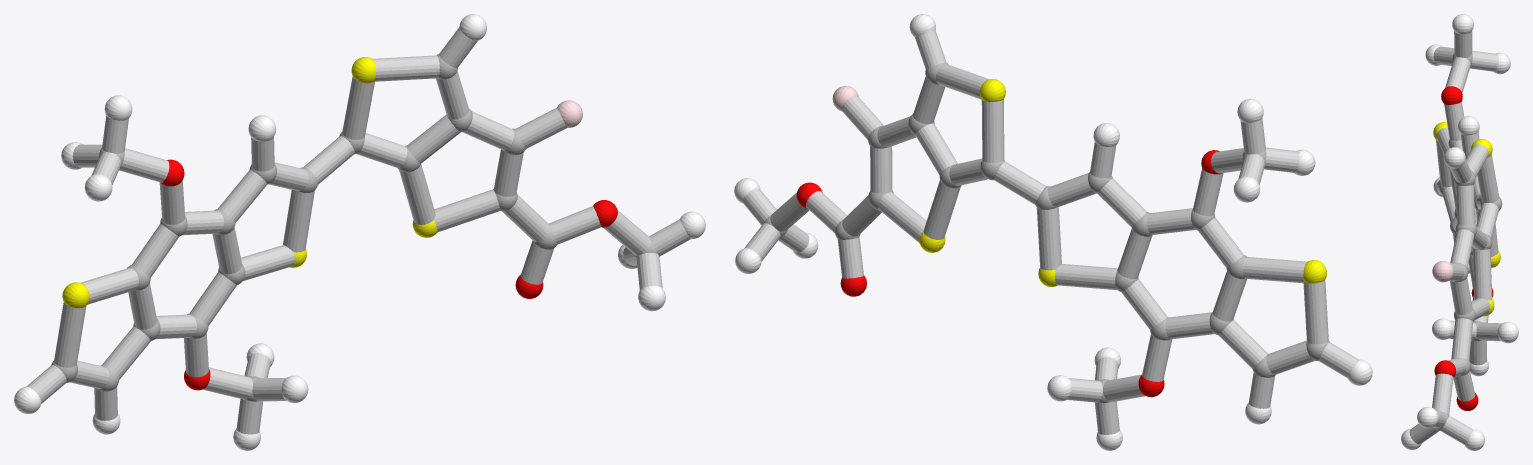
The model's file is Dimethoxy_Benzodithiophene_Phi_25_Theta_350_Methylcarbonyl_3_Fluoro_Thienothiophene.glb.
3 renders of one model, left to right at view 1: azimuth 30°, elevation 25°; view 2: azimuth 150°, elevation 25°; view 3: azimuth 270°, elevation 25°, orthographic. The views are drawn at different scales.
Parts seen in each view (by area): view 1: grp15205, grp8689, grp1, grp13395, grp7241; view 2: grp15205, grp8689, grp1, grp7241, grp13395; view 3: grp15205, grp8689, grp1, grp13395, grp7241, grp14843.
Boxes of the visible parts, bbox=[...] form: grp15205: bbox=[26, 27, 690, 434]; grp8689: bbox=[14, 14, 705, 450]; grp1: bbox=[51, 54, 657, 401]; grp13395: bbox=[160, 159, 617, 390]; grp7241: bbox=[62, 57, 437, 308]; grp15205: bbox=[742, 30, 1358, 434]; grp8689: bbox=[734, 14, 1372, 450]; grp1: bbox=[763, 62, 1329, 403]; grp7241: bbox=[919, 79, 1326, 286]; grp13395: bbox=[796, 150, 1222, 397]; grp15205: bbox=[1409, 31, 1501, 444]; grp8689: bbox=[1401, 14, 1518, 450]; grp1: bbox=[1434, 53, 1502, 430]; grp13395: bbox=[1434, 86, 1493, 410]; grp7241: bbox=[1433, 122, 1500, 316]; grp14843: bbox=[1432, 261, 1453, 282].
Bounding box in the file's own units: 16.87 × 9.37 × 3.25.
